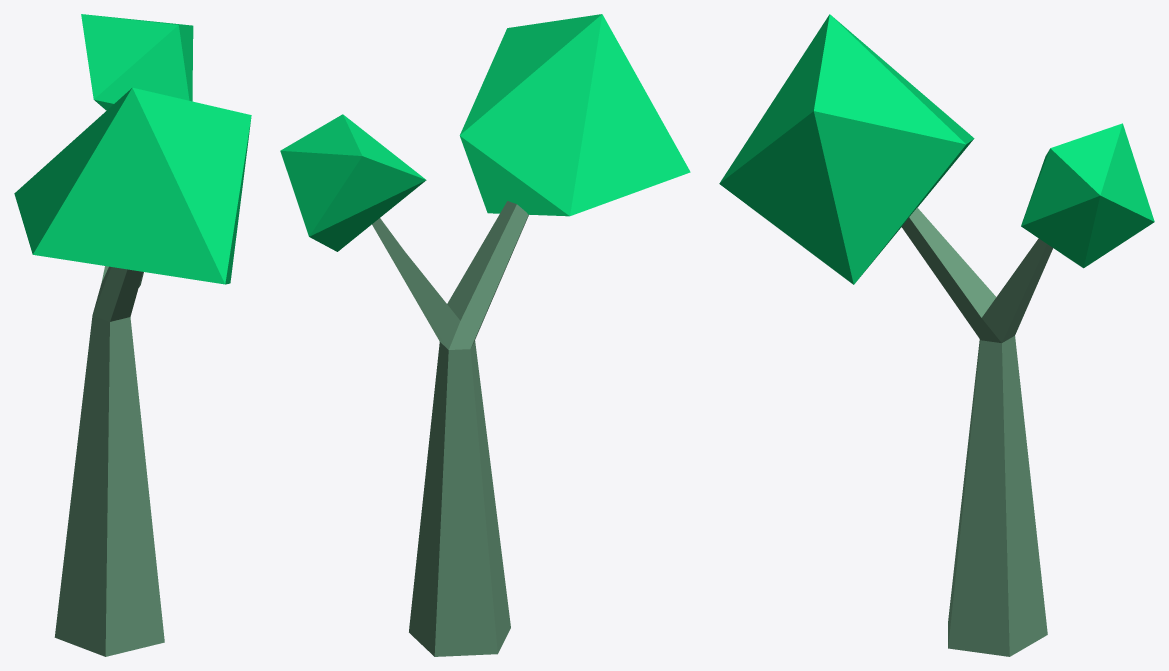
Rendered from tree 1 improved 1.FBX.
3 views of the same model, side by side, from view 1: azimuth 30°, elevation 25°; view 2: azimuth 150°, elevation 25°; view 3: azimuth 270°, elevation 25° (orthographic). The views are drawn at different scales.
Visible parts, largest first — view 1: tree 1; view 2: tree 1; view 3: tree 1.
Boxes of the visible parts, x1,y1,x2,y2 form: tree 1: (14,14,251,656); tree 1: (280,14,690,656); tree 1: (719,14,1154,656).
Bounding box in the file's own units: 13.56 × 26.82 × 17.93.
